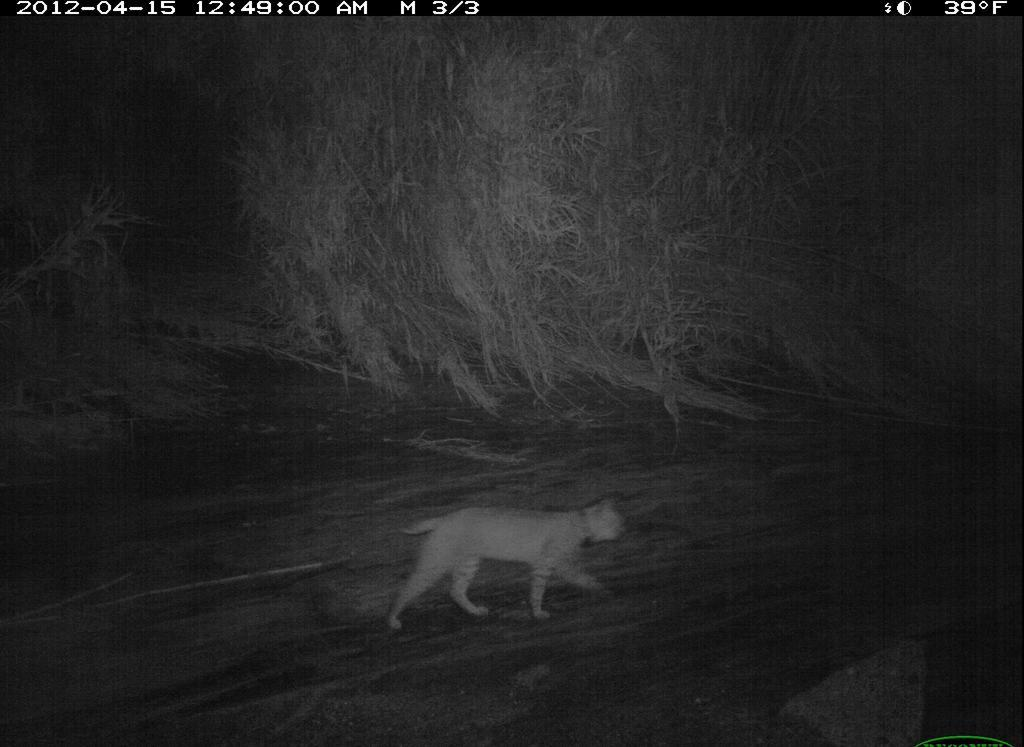bobcat: (377, 489, 643, 637)
